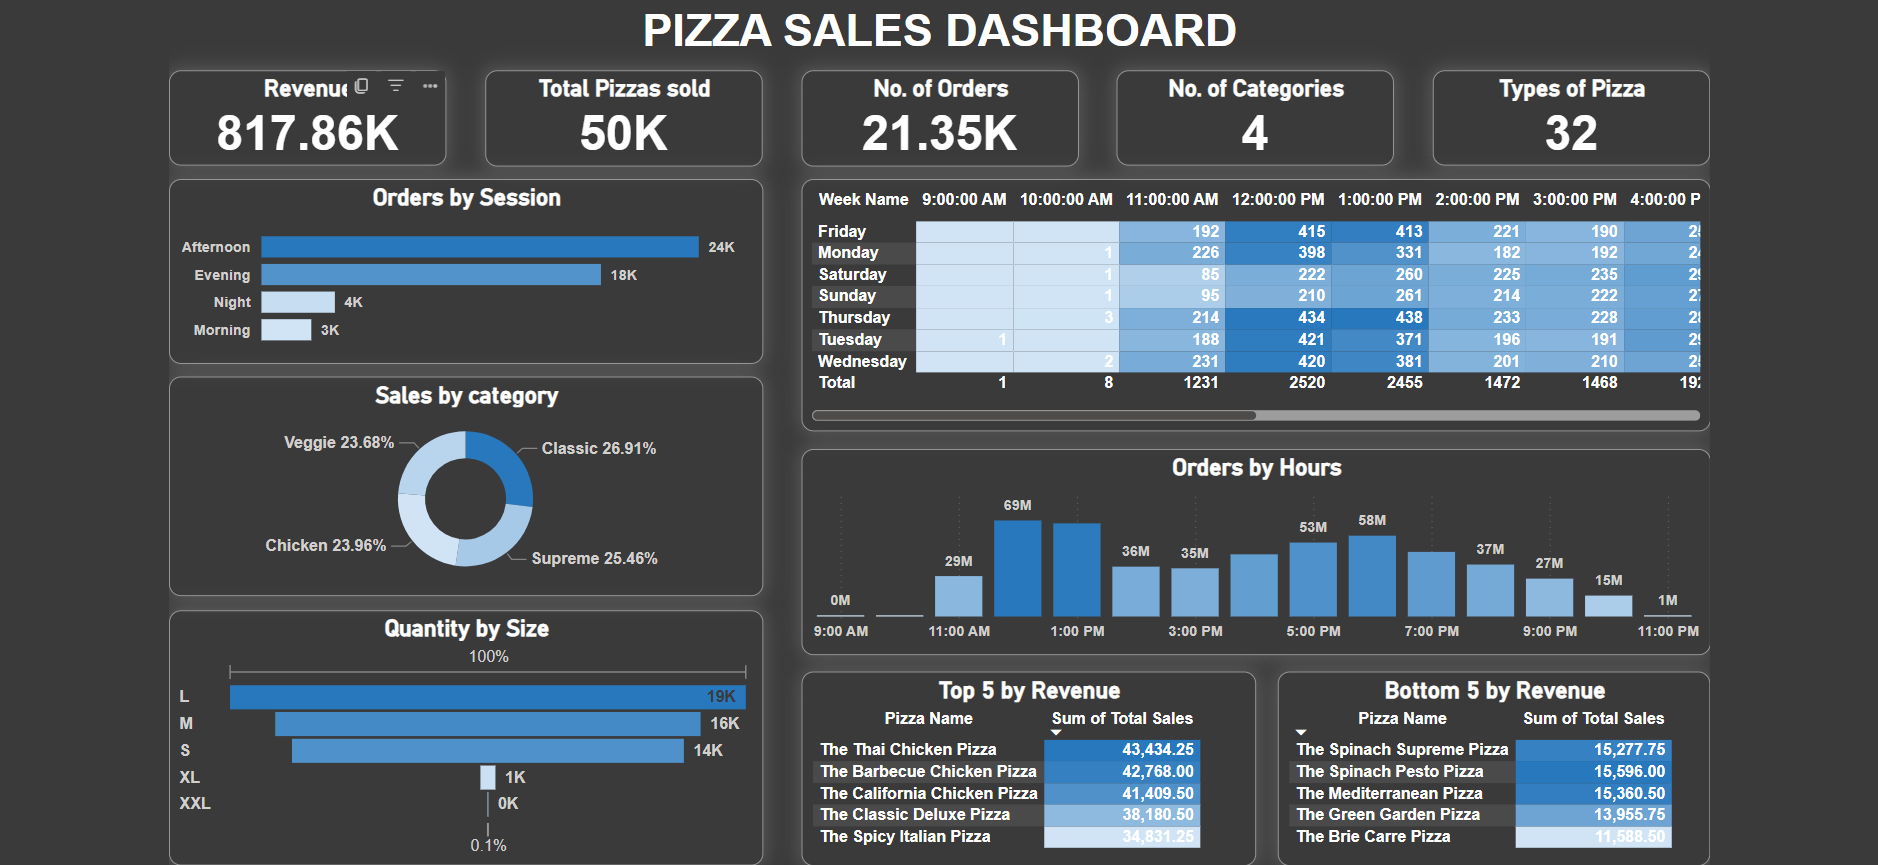

This screenshot's page, from the dashboard's own definition file:
{"tool":"powerbi","page":{"name":"Dashboard","canvas":[1280,720],"ordinal":0},"visuals":[{"type":"card","title":"Revenue","fields":{"Values":["Sum(pizza_sales.total_price)"]},"box":[0,59,230.5,79.6],"z":0},{"type":"card","title":"Total Pizzas sold","fields":{"Values":["Sum(pizza_sales.quantity)"]},"box":[262.7,59.2,230,80],"z":1000},{"type":"card","title":"No. of Orders","fields":{"Values":["Count(pizza_sales.order_id)"]},"box":[524.9,59.4,230,80],"z":2000},{"type":"card","title":"No. of Categories","fields":{"Values":["Count(pizza_sales.pizza_category)"]},"box":[787,59.6,230.5,79.6],"z":3000},{"type":"card","title":"Types of Pizza","fields":{"Values":["Count(pizza_sales.pizza_name)"]},"box":[1049.5,59,230.5,79.6],"z":4000},{"type":"textbox","box":[0,0,1280.3,59],"z":5000},{"type":"pivotTable","fields":{"Rows":["pizza_sales.order_day"],"Columns":["pizza_sales.order_hours"],"Values":["Count(pizza_sales.order_id)"]},"box":[524.8,149.6,755.2,209.9],"z":6000},{"type":"funnel","title":"Quantity by Size","fields":{"Category":["pizza_sales.pizza_size"],"Y":["Sum(pizza_sales.quantity)"]},"box":[0,507.9,493.4,212.3],"z":7000},{"type":"donutChart","title":"Sales by category","fields":{"Category":["pizza_sales.pizza_category"],"Y":["Sum(pizza_sales.total_price)"]},"box":[0,313.7,493.4,182.2],"z":8000},{"type":"barChart","title":"Orders by Session","fields":{"Y":["CountNonNull(pizza_sales.order_id)"],"Category":["pizza_sales.Day Time"]},"box":[0,149.6,493.4,153.2],"z":9000},{"type":"columnChart","title":"Orders by Hours","fields":{"Y":["Sum(pizza_sales.order_id)"],"Category":["pizza_sales.order_hours"]},"box":[524.8,373.4,755.2,171.3],"z":10000},{"type":"tableEx","title":"Bottom 5 by Revenue","fields":{"Values":["pizza_sales.pizza_name","Sum(pizza_sales.total_price)"]},"box":[920.5,558.6,359.5,161.7],"z":11000},{"type":"tableEx","title":"Top 5 by Revenue","fields":{"Values":["pizza_sales.pizza_name","Sum(pizza_sales.total_price)"]},"box":[524.8,558.3,377.6,161.7],"z":12000}]}

Visuals, with their boxes on the page's 1280x720 design canvas (x1, y1, x2, y2). These are canvas units, not pixel positions in the 1878x865 screenshot, which may show the page scaled, cropped or inside an application window:
"Revenue" card: <region>0, 59, 230, 139</region>
"Total Pizzas sold" card: <region>263, 59, 493, 139</region>
"No. of Orders" card: <region>525, 59, 755, 139</region>
"No. of Categories" card: <region>787, 60, 1018, 139</region>
"Types of Pizza" card: <region>1050, 59, 1280, 139</region>
textbox: <region>0, 0, 1280, 59</region>
pivotTable - pizza_sales.order_day x pizza_sales.order_hours: <region>525, 150, 1280, 360</region>
"Quantity by Size" funnel: <region>0, 508, 493, 720</region>
"Sales by category" donutChart: <region>0, 314, 493, 496</region>
"Orders by Session" barChart: <region>0, 150, 493, 303</region>
"Orders by Hours" columnChart: <region>525, 373, 1280, 545</region>
"Bottom 5 by Revenue" tableEx: <region>920, 559, 1280, 720</region>
"Top 5 by Revenue" tableEx: <region>525, 558, 902, 720</region>
